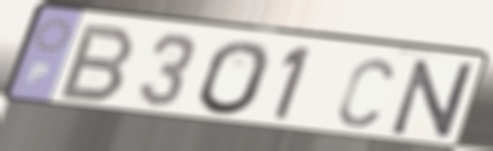1: (272, 45, 312, 123)
3: (136, 31, 201, 111)
B: (54, 21, 139, 105)
C: (335, 54, 397, 130)
N: (388, 58, 477, 141)
O: (195, 39, 273, 119)
